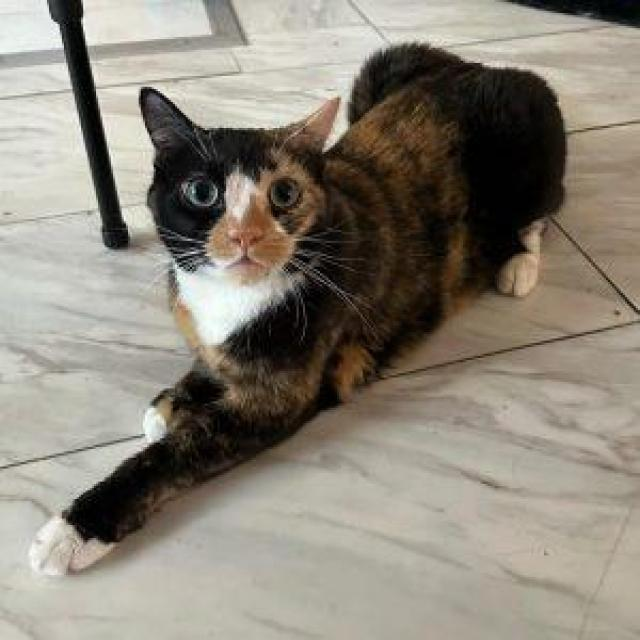calico_cat: (132, 85, 346, 302)
